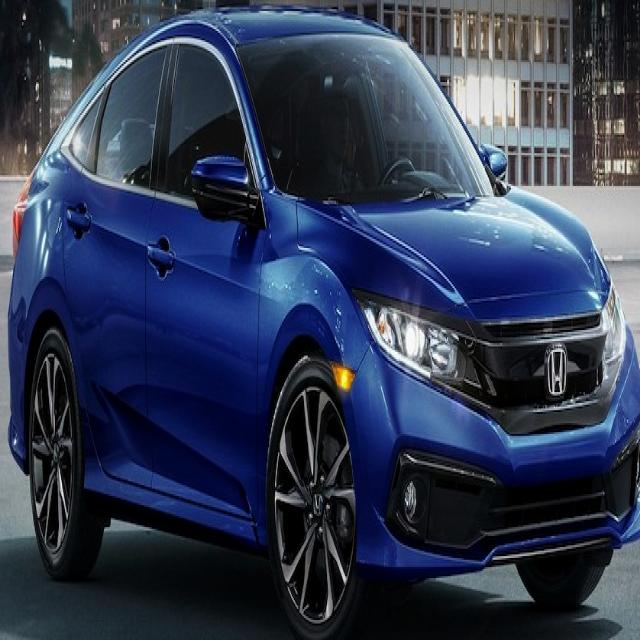blue: (17, 19, 640, 640)
